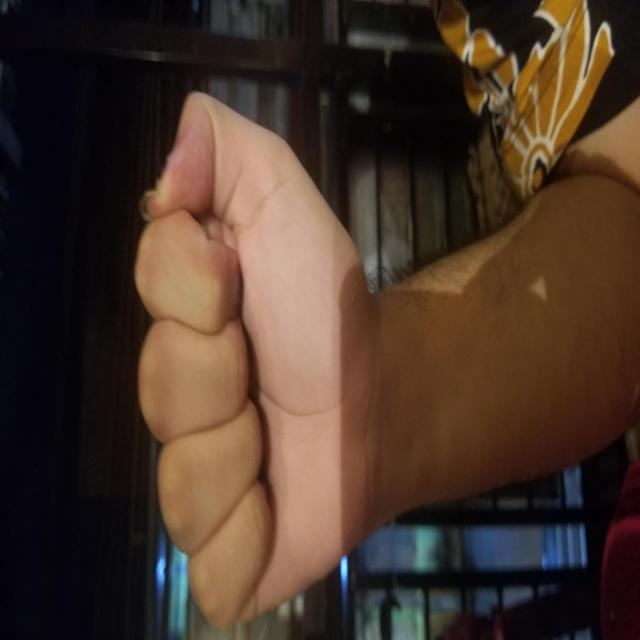A: (0, 134, 566, 375)
